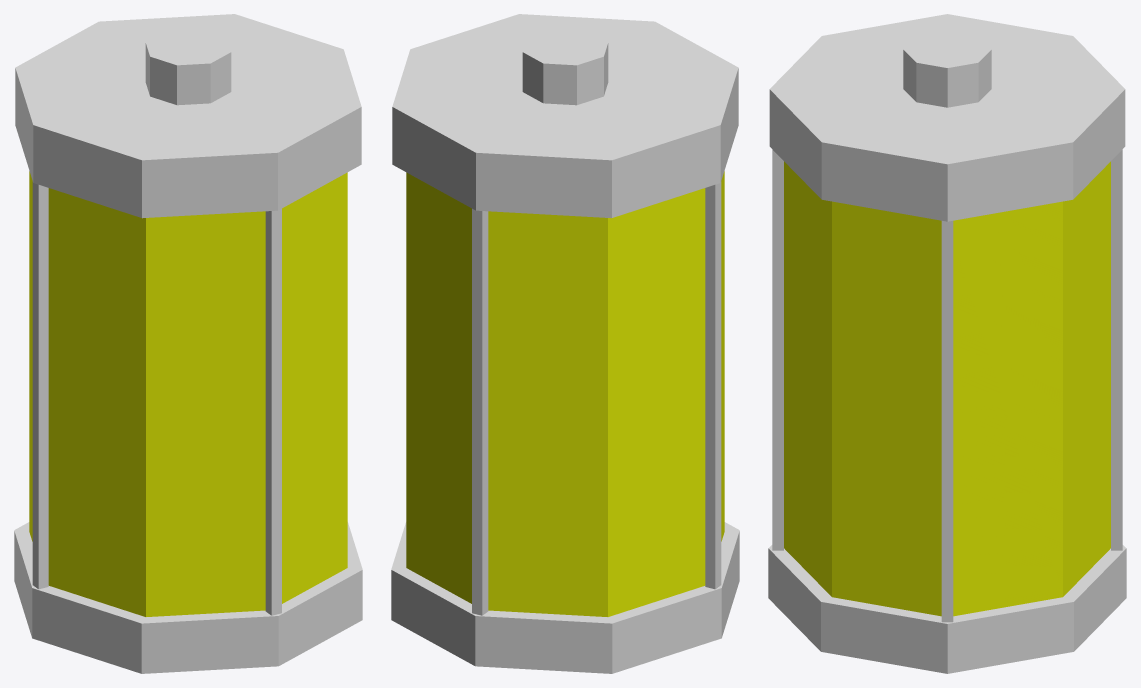
File: powerpellet new.fbx
3 renders of one model, left to right at view 1: azimuth 30°, elevation 25°; view 2: azimuth 150°, elevation 25°; view 3: azimuth 270°, elevation 25°, orthographic.
Visible parts, largest first — view 1: Circle; view 2: Circle; view 3: Circle.
Boxes of the visible parts, <box> form: Circle: <box>14,14,362,673</box>; Circle: <box>391,14,739,673</box>; Circle: <box>768,14,1126,673</box>.
Size of the model in its own units: 2283 by 4178 by 2283.
